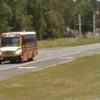buses: (1, 31, 39, 64)
